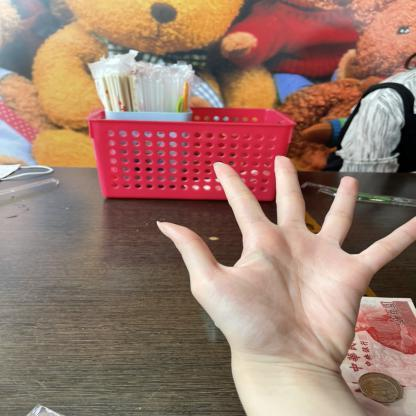bare_hand: (152, 142, 416, 380)
